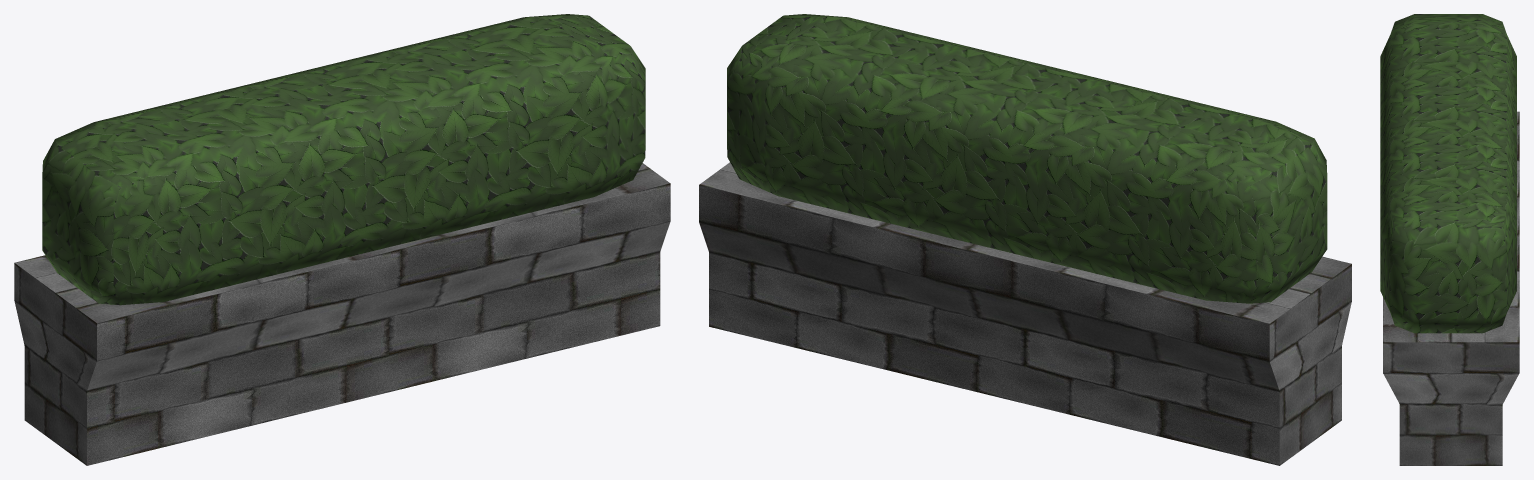
Rendered from Hedge2.fbx.
3 views of the same model, side by side, from view 1: azimuth 30°, elevation 25°; view 2: azimuth 150°, elevation 25°; view 3: azimuth 270°, elevation 25° (orthographic). The views are drawn at different scales.
Parts seen in each view (by area): view 1: Leaves, LeavesVaseCement; view 2: Leaves, LeavesVaseCement; view 3: Leaves, LeavesVaseCement.
Part boxes in pixels (box(x1,y1,x2,y2)): Leaves: box(42, 14, 645, 305); LeavesVaseCement: box(14, 163, 670, 465); Leaves: box(727, 14, 1327, 303); LeavesVaseCement: box(699, 162, 1351, 465); Leaves: box(1380, 14, 1516, 333); LeavesVaseCement: box(1383, 111, 1519, 465).
Bounding box in the file's own units: 4 × 1.93 × 1.02.
2 materials, 2 textured.
